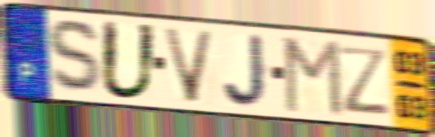J: (220, 32, 272, 111)
M: (283, 35, 345, 119)
S: (45, 17, 108, 98)
U: (98, 17, 160, 103)
V: (160, 25, 217, 106)
Z: (336, 43, 392, 117)
